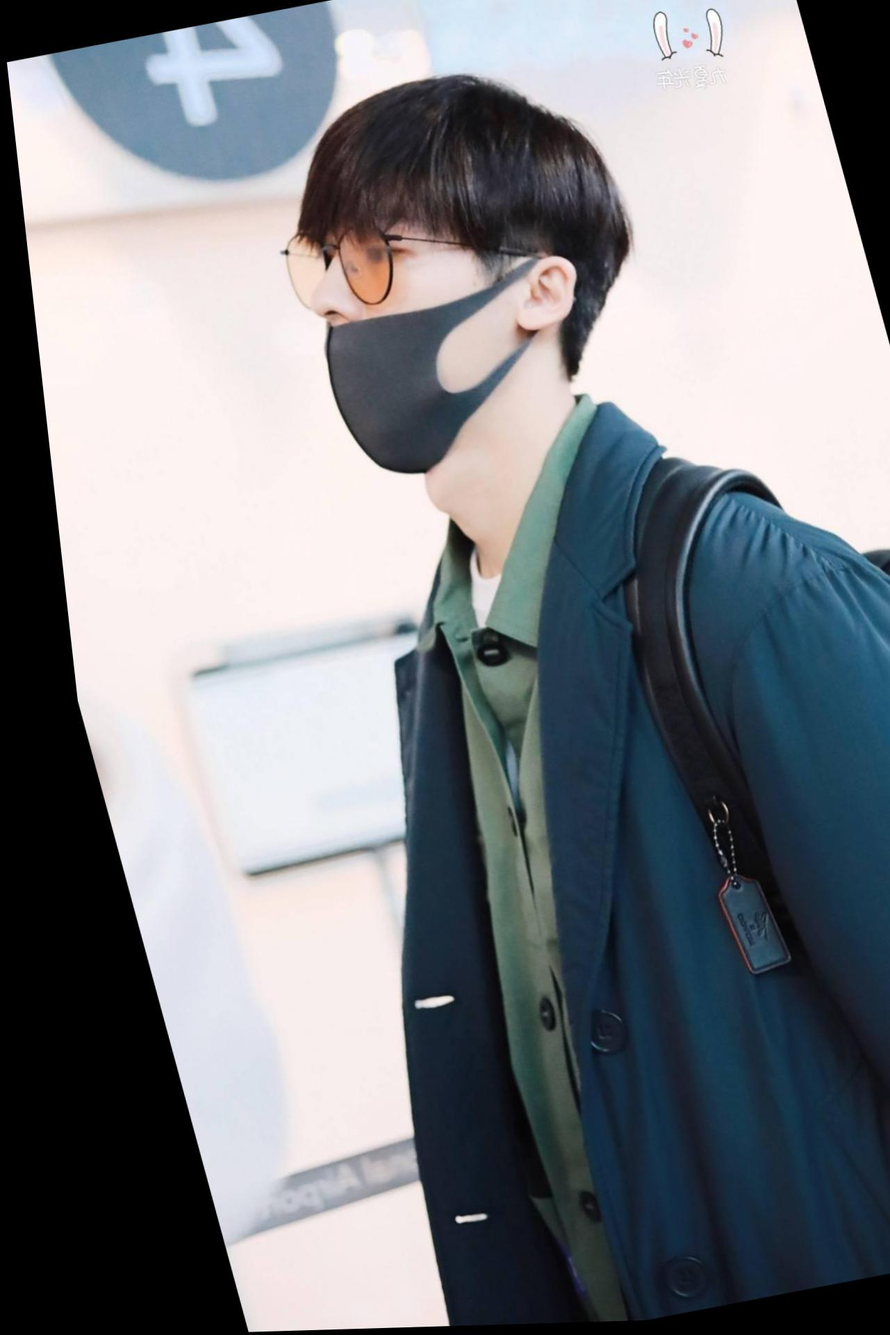WRONG: (276, 202, 506, 479)
